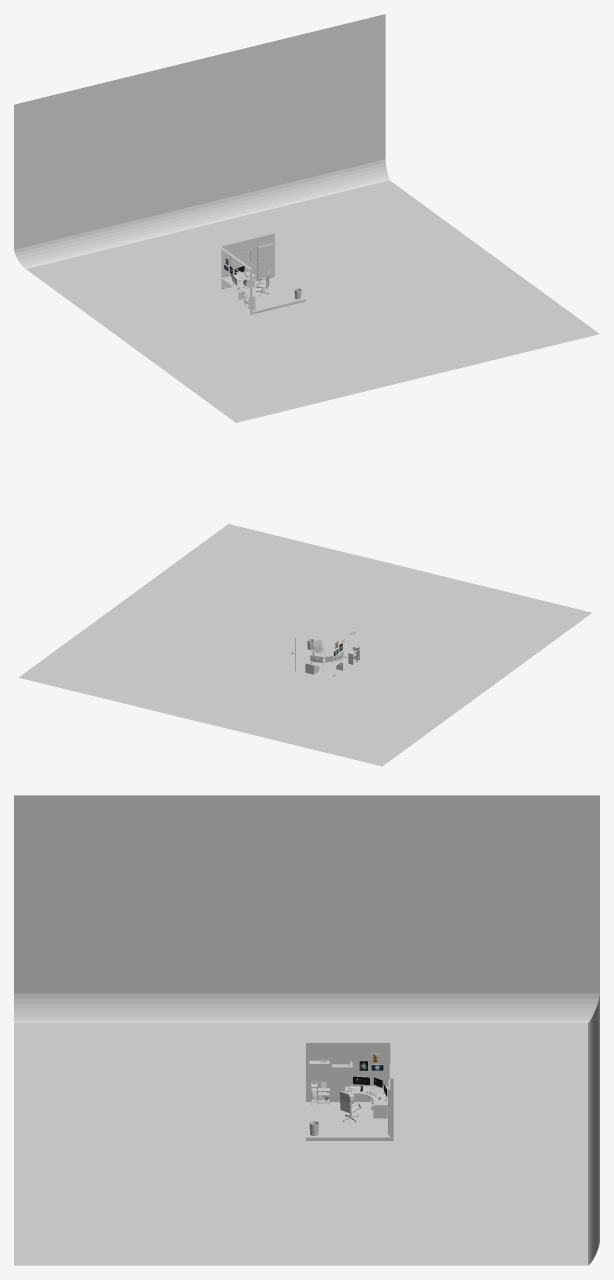
Rendered from isometric_room.glb.
3 views of the same model, one above another, from view 1: azimuth 30°, elevation 25°; view 2: azimuth 150°, elevation 25°; view 3: azimuth 270°, elevation 25° (orthographic). The views are drawn at different scales.
Visible parts, largest first — view 1: scene-background, walls, floor, objects; view 2: scene-background, floor, objects, woods; view 3: scene-background, walls, floor, objects, woods.
Part boxes in pixels (<box>): scene-background: <box>14,14,599,422</box>; walls: <box>218,232,305,314</box>; floor: <box>222,276,305,311</box>; objects: <box>224,256,301,304</box>; scene-background: <box>18,524,591,766</box>; floor: <box>278,646,361,680</box>; objects: <box>305,631,359,677</box>; woods: <box>303,628,360,669</box>; scene-background: <box>14,795,599,1265</box>; walls: <box>306,1041,393,1140</box>; floor: <box>306,1102,390,1137</box>; objects: <box>309,1059,387,1135</box>; woods: <box>309,1060,387,1105</box>.
Bounding box in the file's own units: 51.9 × 21.77 × 51.9.
4 materials, 4 textured.
